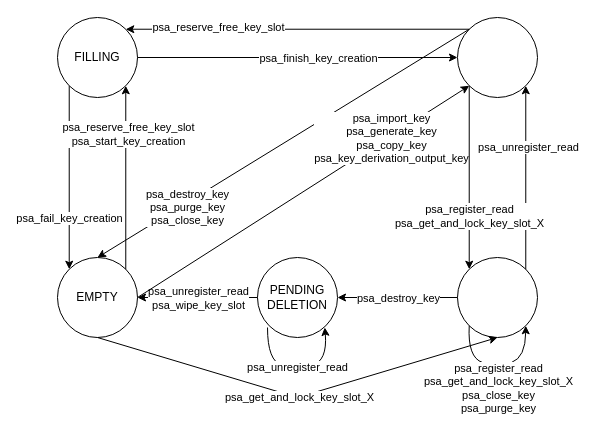
This 597x432 diagram has some shape labels left out. The shapes that lost their labels are listed below. From the top down, each one's centre as x and y in pixels, then its label:
At pixel 497 57: "FULL !has_readers".
At pixel 497 297: "FULL has_readers".
